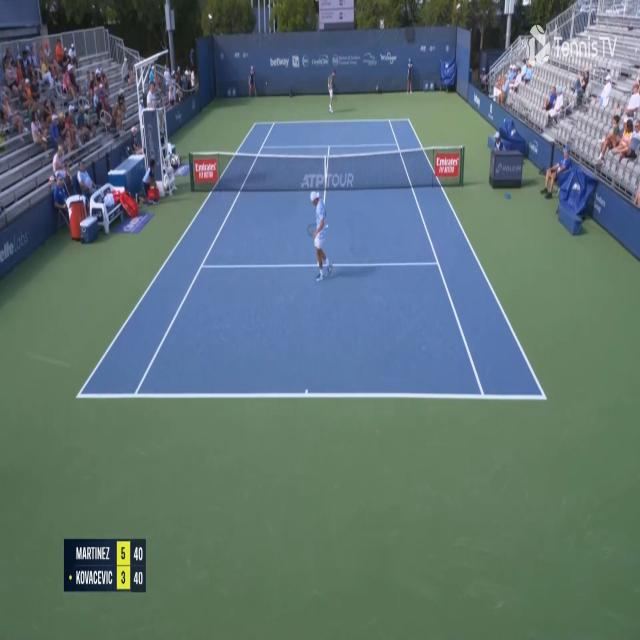tennis-player: (306, 188, 334, 283), (328, 66, 338, 114)
